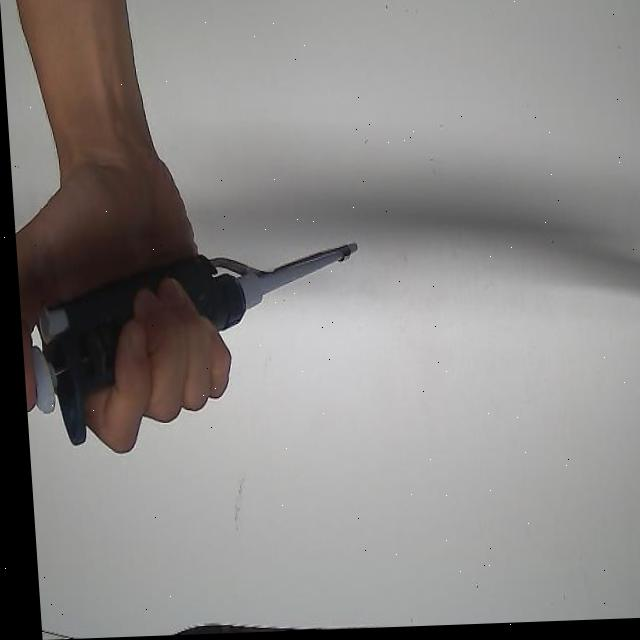Single Channel Pipettor: (23, 243, 367, 448)
